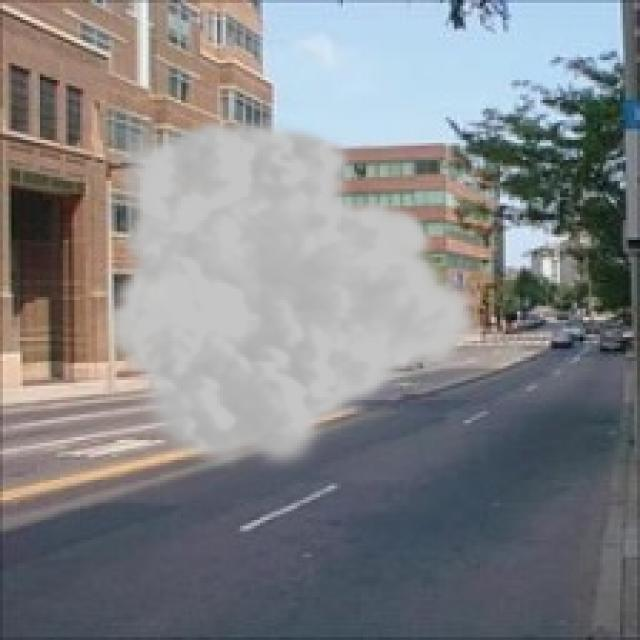smoke: (103, 112, 488, 477)
